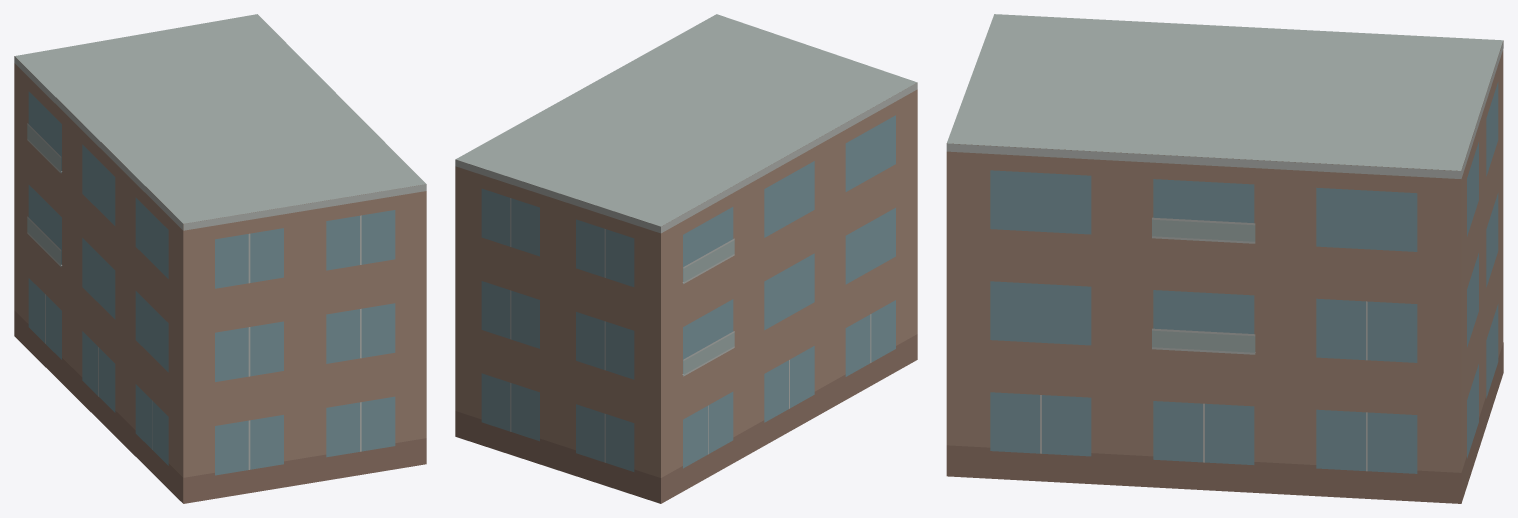
Rendered from survey-upis-32610753.glb.
The picture shows the model from 3 angles, left to right: view 1: azimuth 30°, elevation 25°; view 2: azimuth 150°, elevation 25°; view 3: azimuth 270°, elevation 25°; orthographic projection. The views are drawn at different scales.
Visible parts, largest first — view 1: survey-upis-32610753.tmp; view 2: survey-upis-32610753.tmp; view 3: survey-upis-32610753.tmp.
Part boxes in pixels (<box>): survey-upis-32610753.tmp: <box>14,14,426,503</box>; survey-upis-32610753.tmp: <box>455,14,917,503</box>; survey-upis-32610753.tmp: <box>946,14,1503,503</box>.
Bounding box in the file's own units: 10.02 × 9.9 × 15.02.
